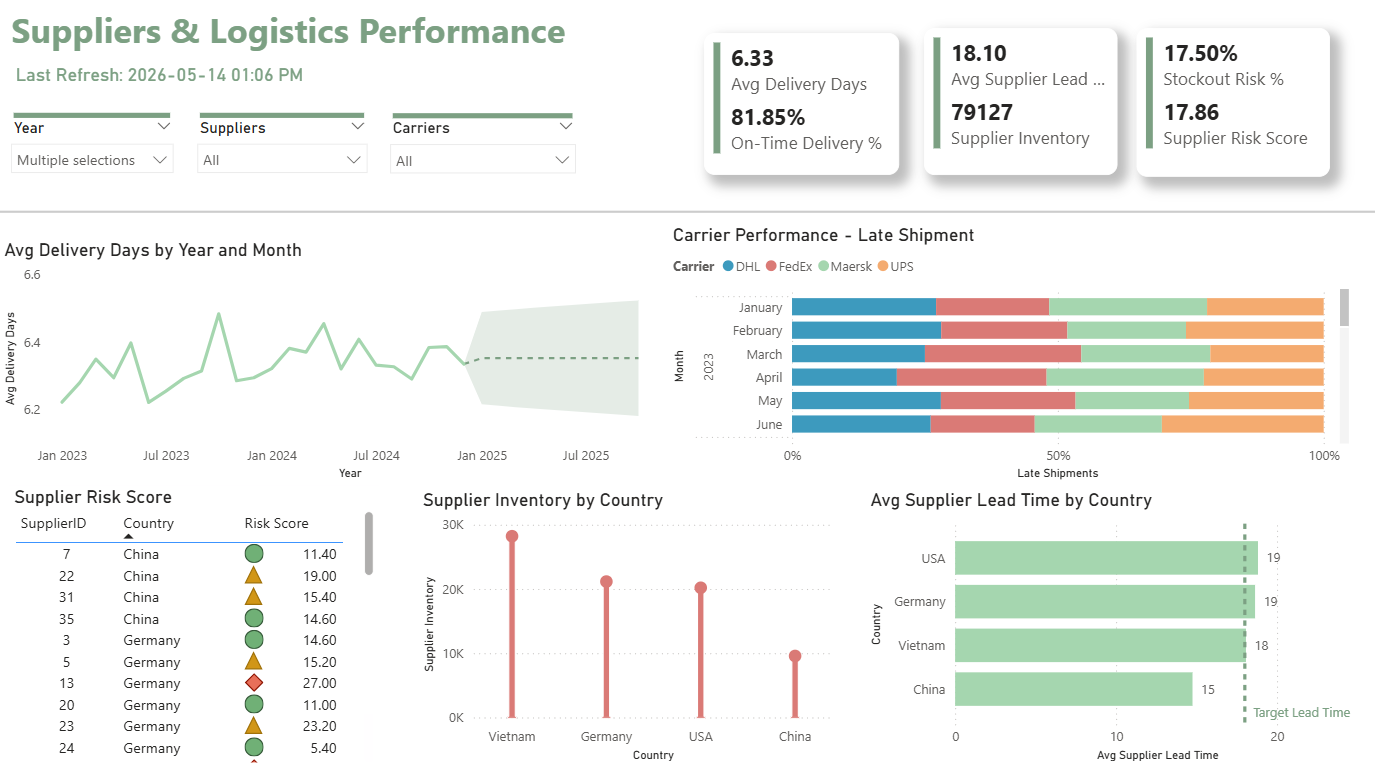

The page's visual inventory and layout, read from the dashboard file:
{"tool":"powerbi","page":{"name":"Supplier & Logistics Performance","canvas":[1280,720],"ordinal":2},"visuals":[{"type":"textbox","box":[9.3,9.3,561.6,53.5],"z":0},{"type":"group","id":"g1","title":"Group 1","box":[655.8,32.6,582.6,138.4],"z":1000},{"type":"multiRowCard","fields":{"Values":["Measure.Avg Delivery Days","Measure.On-Time Delivery %"]},"box":[655.8,37.5,181.4,132.2],"z":1000,"group":"g1"},{"type":"multiRowCard","fields":{"Values":["Measure.Avg Supplier Lead Time","Measure.Supplier Inventory"]},"box":[860.5,32.6,180.2,137.1],"z":2000,"group":"g1"},{"type":"slicer","fields":{"Values":["DimDate.FullDate.Variation.Date Hierarchy.Year"]},"box":[0,105.8,173.3,65.1],"z":2000},{"type":"slicer","fields":{"Values":["DimSupplier.SupplierID"]},"box":[173.3,105.8,180.2,70.9],"z":3000},{"type":"multiRowCard","fields":{"Values":["Measure.Stockout Risk %","Measure.Supplier Risk Score"]},"box":[1058.1,32.6,180.2,138.4],"z":4000,"group":"g1"},{"type":"hundredPercentStackedBarChart","title":"Carrier Performance - Late Shipment","fields":{"Category":["DimDate.FullDate.Variation.Date Hierarchy.Year","DimDate.FullDate.Variation.Date Hierarchy.Month"],"Series":["DimCarrier.CarrierName"],"Y":["Measure.Late Shipments"]},"box":[622.1,215.1,638.4,243],"z":4000},{"type":"tableEx","title":"Supplier Risk Score","fields":{"Values":["DimSupplier.SupplierID","DimSupplier.Country","Measure.Supplier Risk Score"]},"box":[9.7,457.9,344.1,262.3],"z":5000},{"type":"lineChart","fields":{"Y":["Measure.Avg Delivery Days"],"Category":["DimDate.FullDate.Variation.Date Hierarchy.Year","DimDate.FullDate.Variation.Date Hierarchy.Month"]},"box":[0,229.1,622.1,229.1],"z":6000},{"type":"lineChart","fields":{"Category":["DimSupplier.Country"],"Y":["Measure.Supplier Inventory"]},"box":[389.9,462.1,391.3,258.1],"z":7000},{"type":"barChart","fields":{"Y":["Measure.Avg Supplier Lead Time"],"Category":["DimSupplier.Country"]},"box":[806.3,462.1,473.2,258.1],"z":8000},{"type":"slicer","fields":{"Values":["DimCarrier.CarrierName"]},"box":[353.5,107,193,69.8],"z":9000},{"type":"card","title":"Last Refresh","fields":{"Values":["DimCarrier.Last Refresh Title"]},"box":[5.8,57,287.2,39.5],"z":10000},{"type":"shape","box":[0,186,1280.2,34.9],"z":11000}]}

Visuals, with their boxes in screenshot pixels (x1, y1, x2, y2), scaled from the page's 1280x720 canvas onto the 1375x765 screenshot:
textbox: bbox(10, 10, 613, 67)
"Group 1" group: bbox(704, 35, 1330, 182)
multiRowCard - Measure.Avg Delivery Days x Measure.On-Time Delivery %: bbox(704, 40, 899, 180)
multiRowCard - Measure.Avg Supplier Lead Time x Measure.Supplier Inventory: bbox(924, 35, 1118, 180)
slicer - DimDate.FullDate.Variation.Date Hierarchy.Year: bbox(0, 112, 186, 182)
slicer - DimSupplier.SupplierID: bbox(186, 112, 380, 188)
multiRowCard - Measure.Stockout Risk % x Measure.Supplier Risk Score: bbox(1137, 35, 1330, 182)
"Carrier Performance - Late Shipment" hundredPercentStackedBarChart: bbox(668, 229, 1354, 487)
"Supplier Risk Score" tableEx: bbox(10, 487, 380, 764)
lineChart - Measure.Avg Delivery Days x DimDate.FullDate.Variation.Date Hierarchy.Year: bbox(0, 243, 668, 487)
lineChart - DimSupplier.Country x Measure.Supplier Inventory: bbox(419, 491, 839, 764)
barChart - Measure.Avg Supplier Lead Time x DimSupplier.Country: bbox(866, 491, 1374, 764)
slicer - DimCarrier.CarrierName: bbox(380, 114, 587, 188)
"Last Refresh" card: bbox(6, 61, 315, 103)
shape: bbox(0, 198, 1374, 235)
